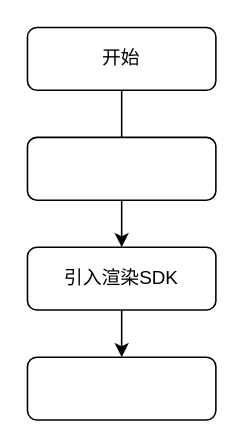
The diagram is 243 pixels wide and 447 high, and some of its shapes have lost their labels. Here are the shapes that lost their labels. From the top down, the centre of each, then its label:
the point at 121,168: Orca platform主动发起任务
the point at 121,388: 全量加载缓存
